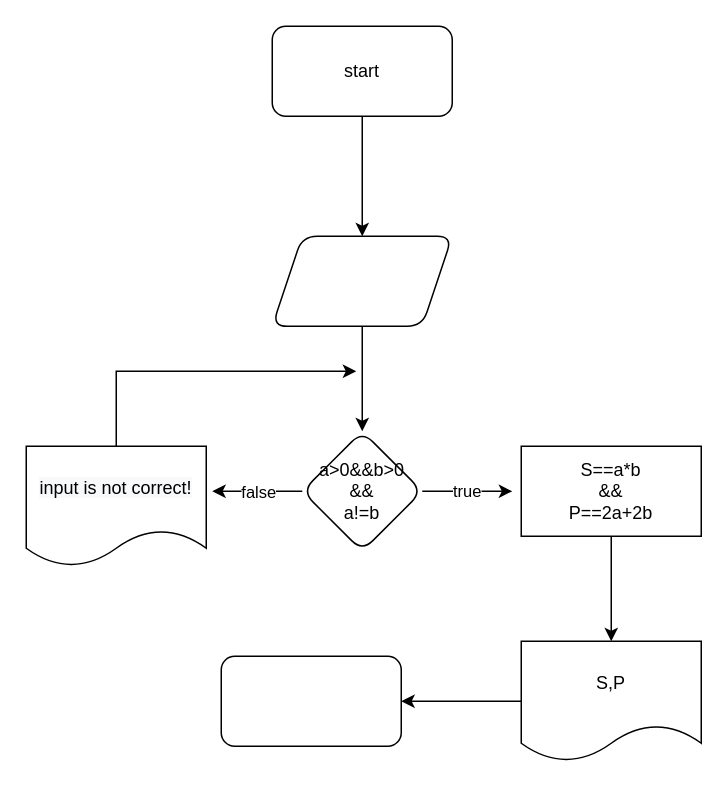
Image size: 728x788. Some labels were removed from this diagram. The centre of each missing label's shape, as x and y in pixels:
"a,b,S,P" goes at (x=361, y=280).
"end" goes at (x=310, y=700).
